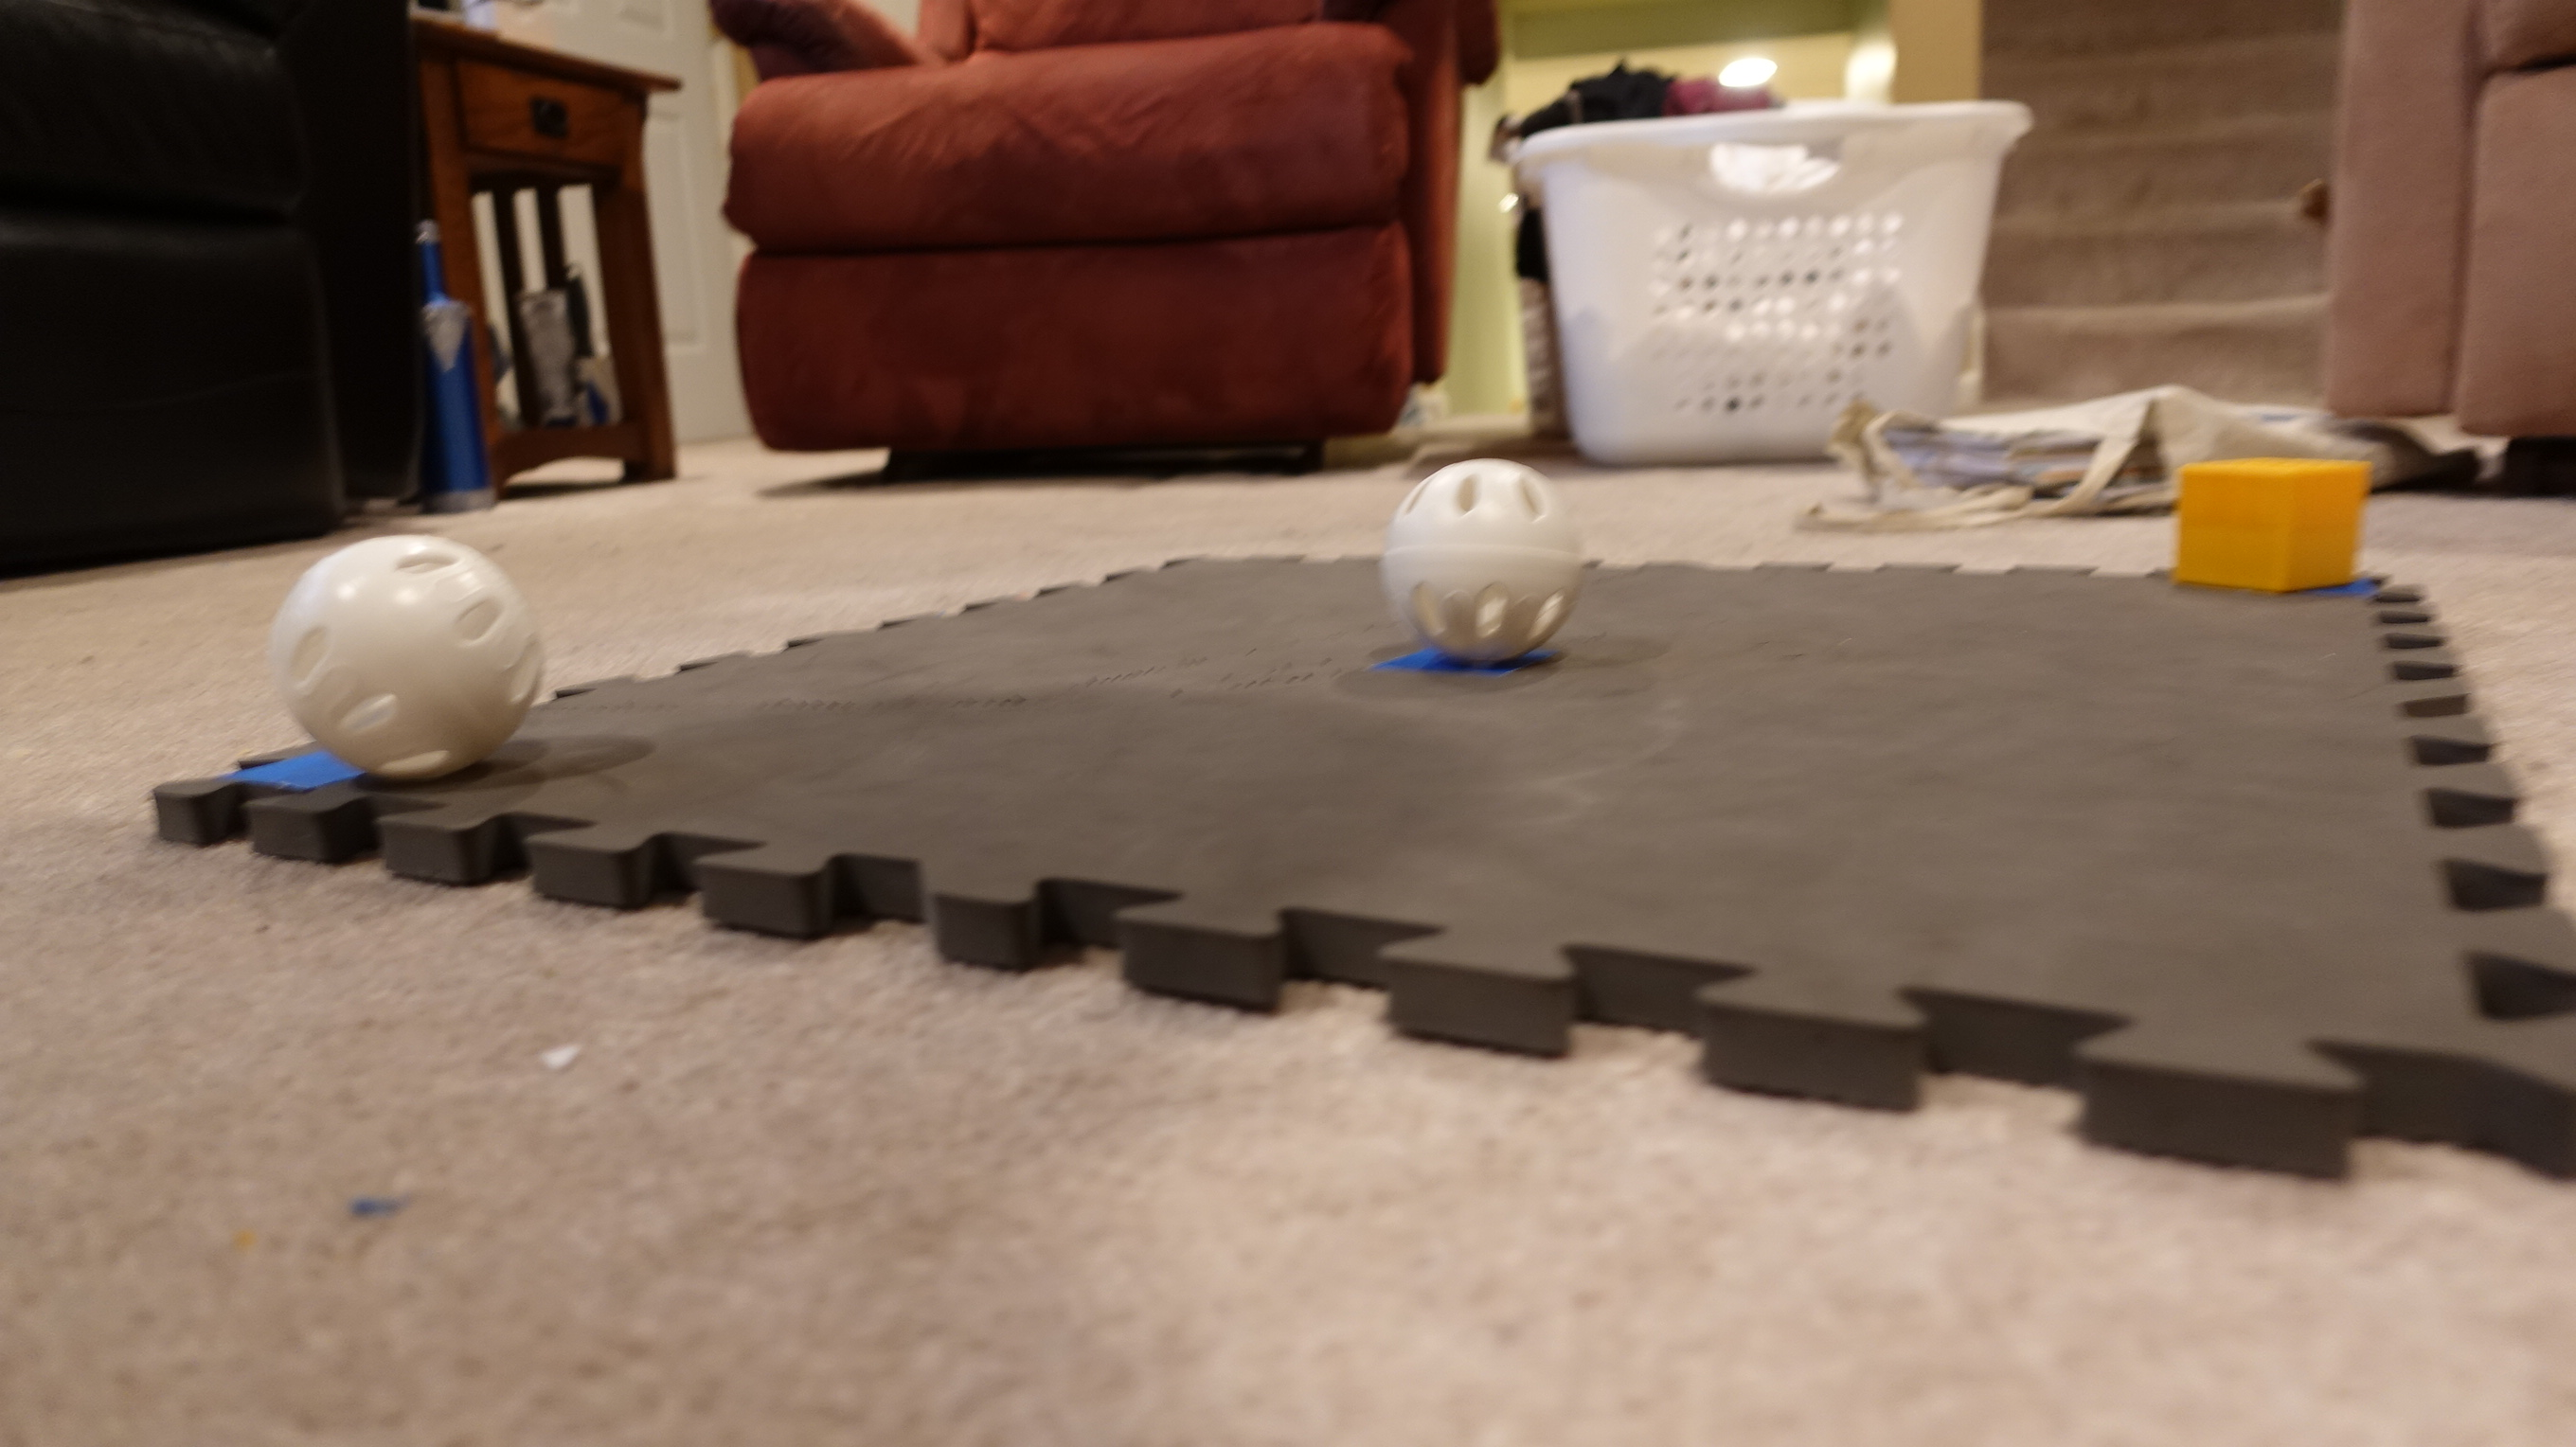gold: (2151, 451, 2387, 600)
silver: (258, 525, 550, 778), (1371, 449, 1601, 663)
